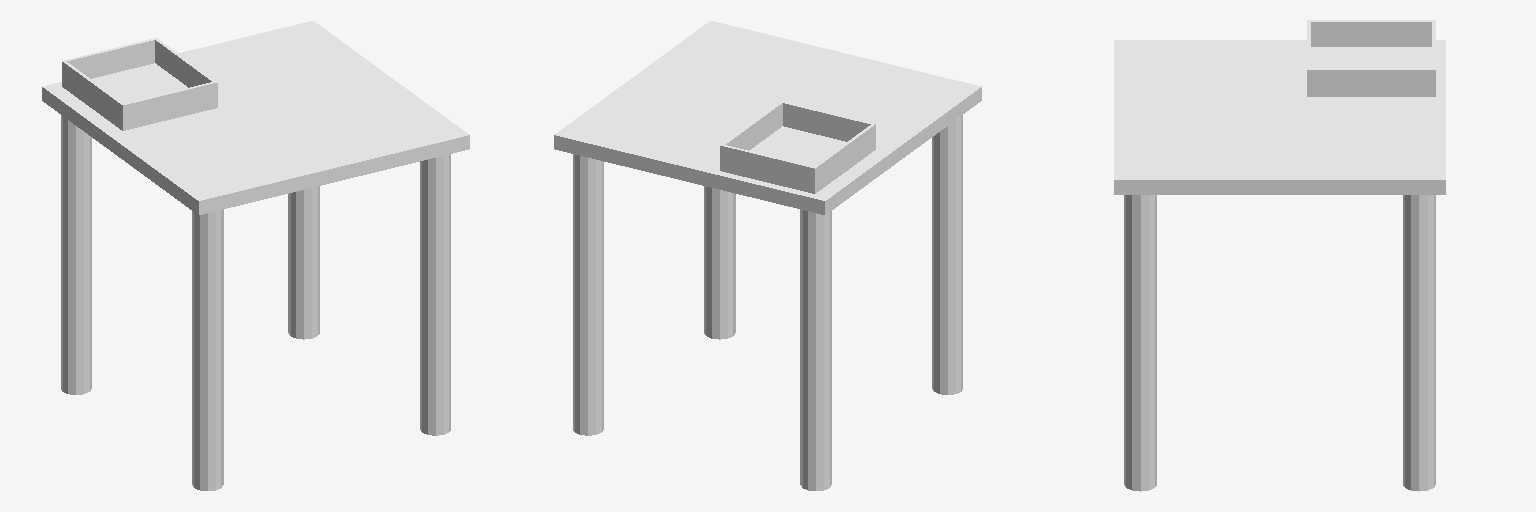
URDF robot description (table_basket_new):
<robot
  name="table_basket_new">
  <link
    name="table">
    <inertial>
      <origin
        xyz="0 -2.0817E-17 -0.22758"
        rpy="0 0 0" />
      <mass
        value="81.416" />
      <inertia
        ixx="17.674"
        ixy="-5.4888E-16"
        ixz="4.3368E-16"
        iyy="19.456"
        iyz="-1.2313E-16"
        izz="17.674" />
    </inertial>
    <visual>
      <origin
        xyz="0 0 0"
        rpy="0 0 0" />
      <geometry>
        <mesh
          filename="package://table_basket_new/meshes/table.STL" />
      </geometry>
      <material
        name="">
        <color
          rgba="1 1 1 1" />
        <texture
          filename="package://table_basket_new/textures/table_color.jpg" />
      </material>
    </visual>
    <collision>
      <origin
        xyz="0 0 0"
        rpy="0 0 0" />
      <geometry>
        <mesh
          filename="package://table_basket_new/meshes/table.STL" />
      </geometry>
    </collision>
  </link>
  <link
    name="left_basket">
    <inertial>
      <origin
        xyz="-1.1102E-16 0 0.031586"
        rpy="0 0 0" />
      <mass
        value="1.8812" />
      <inertia
        ixx="0.048536"
        ixy="-9.6462E-18"
        ixz="6.4101E-18"
        iyy="0.040801"
        iyz="5.1972E-18"
        izz="0.085254" />
    </inertial>
    <visual>
      <origin
        xyz="0 0 0"
        rpy="0 0 0" />
      <geometry>
        <mesh
          filename="package://table_basket_new/meshes/left_basket.STL" />
      </geometry>
      <material
        name="">
        <color
          rgba="1 1 1 1" />
        <texture
          filename="package://table_basket_new/textures/blue.jpg" />
      </material>
    </visual>
    <collision>
      <origin
        xyz="0 0 0"
        rpy="0 0 0" />
      <geometry>
        <mesh
          filename="package://table_basket_new/meshes/left_basket.STL" />
      </geometry>
    </collision>
  </link>
  <joint
    name="left_fixed"
    type="fixed">
    <origin
      xyz="0.27 0.275 0"
      rpy="0 0 0" />
    <parent
      link="table" />
    <child
      link="left_basket" />
    <axis
      xyz="0 0 0" />
  </joint>
  <link
    name="right_basket">
    <inertial>
      <origin
        xyz="0 -5.5511E-17 0.031586"
        rpy="0 0 0" />
      <mass
        value="1.8812" />
      <inertia
        ixx="0.048536"
        ixy="-3.0463E-17"
        ixz="6.1451E-18"
        iyy="0.040801"
        iyz="7.5278E-18"
        izz="0.085254" />
    </inertial>
    <visual>
      <origin
        xyz="0 0 0"
        rpy="0 0 0" />
      <geometry>
        <mesh
          filename="package://table_basket_new/meshes/right_basket.STL" />
      </geometry>
      <material
        name="">
        <color
          rgba="1 1 1 1" />
        <texture
          filename="package://table_basket_new/textures/green.jpg" />
      </material>
    </visual>
    <collision>
      <origin
        xyz="0 0 0"
        rpy="0 0 0" />
      <geometry>
        <mesh
          filename="package://table_basket_new/meshes/right_basket.STL" />
      </geometry>
    </collision>
  </link>
  <joint
    name="right_fixed"
    type="fixed">
    <origin
      xyz="-0.27 0.275 0"
      rpy="0 0 0" />
    <parent
      link="table" />
    <child
      link="right_basket" />
    <axis
      xyz="0 0 0" />
  </joint>
</robot>

--- Render facts (derived) ---
The picture shows the robot from 3 angles, left to right: view 1: azimuth 30°, elevation 25°; view 2: azimuth 150°, elevation 25°; view 3: azimuth 270°, elevation 25°; orthographic projection.
Model table_basket_new with 3 links and 2 joints (2 fixed), rooted at table, posed every joint at zero.
Visible links, largest first — view 1: table, right_basket; view 2: table, right_basket; view 3: table, right_basket.
Boxes of the visible links, left/top/right/bottom form: table: left=42, top=21, right=469, bottom=490; right_basket: left=62, top=38, right=217, bottom=130; table: left=554, top=21, right=981, bottom=490; right_basket: left=720, top=101, right=875, bottom=193; table: left=1114, top=40, right=1445, bottom=491; right_basket: left=1307, top=20, right=1435, bottom=96.
Bounding box of the posed robot: 1 × 1 × 1.14 m (x, y, z).
2 mesh visuals loaded from 3 distinct referenced files (2 binary STL); not drawn: 1 (reference not matched to a file when rendering).